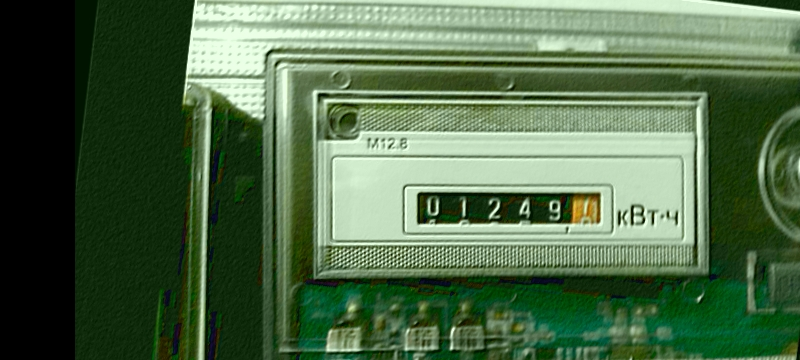0: (421, 192, 443, 220)
1: (453, 195, 471, 221)
2: (483, 196, 506, 224)
4: (516, 194, 537, 223)
7: (577, 193, 594, 219)
9: (545, 198, 566, 225)
screen: (391, 164, 631, 266)
